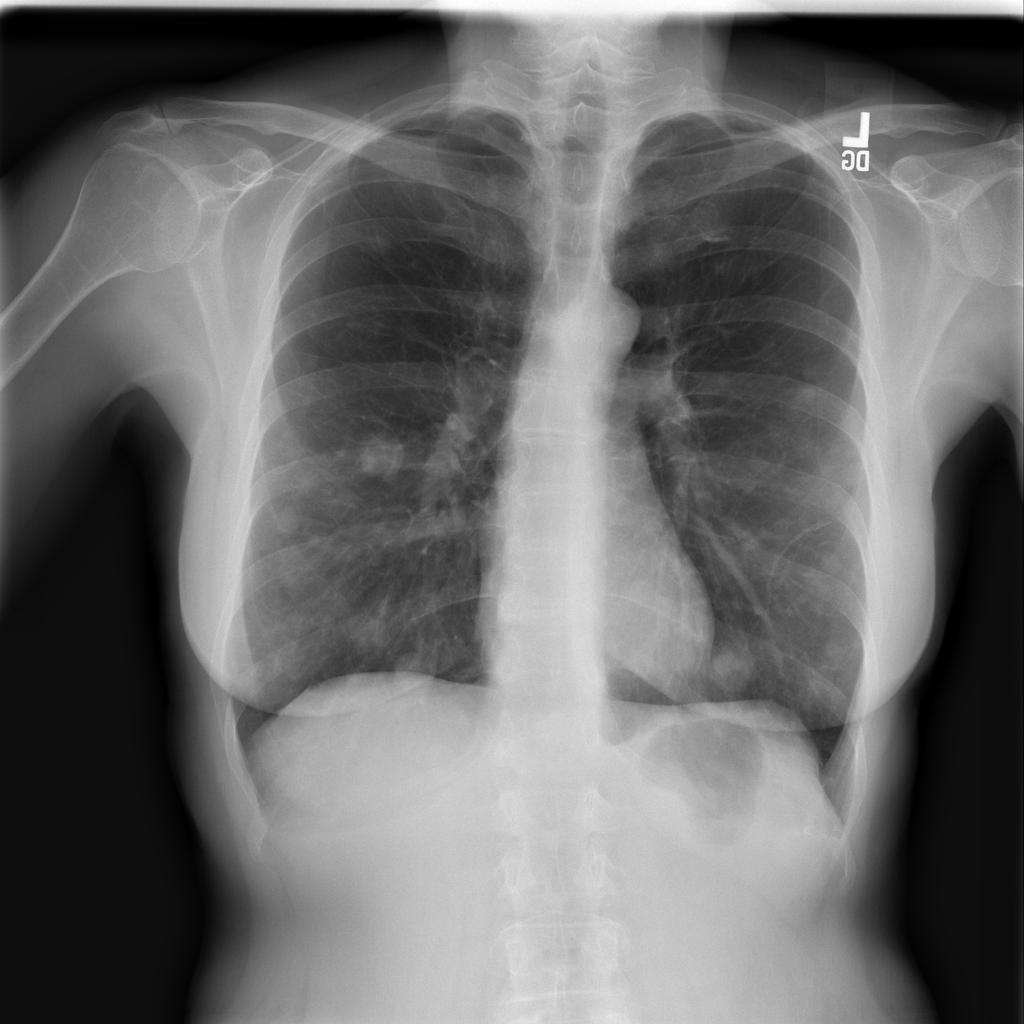nodule: (346, 416, 417, 492), (376, 630, 449, 702), (693, 630, 764, 704), (332, 593, 401, 668), (262, 525, 332, 598), (770, 357, 844, 424), (258, 492, 311, 542), (808, 537, 856, 588), (815, 624, 867, 671)
